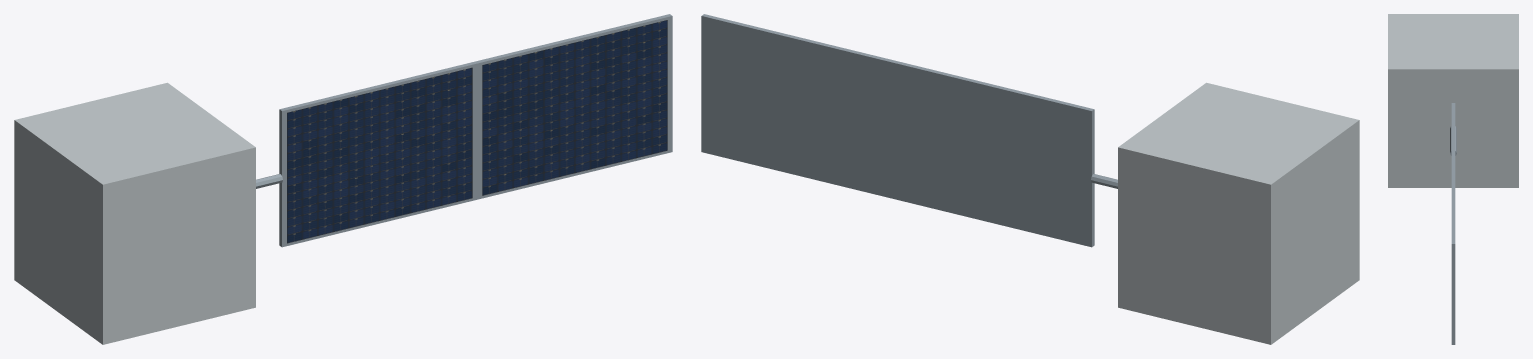
Rendered from ref-sast-1000-54640.glb.
3 views of the same model, side by side, from view 1: azimuth 30°, elevation 25°; view 2: azimuth 150°, elevation 25°; view 3: azimuth 270°, elevation 25° (orthographic). The views are drawn at different scales.
Parts seen in each view (by area): view 1: Spacecraft body, Photovoltaic laminates (×2), Array frame (×2); view 2: Array frame (×2), Spacecraft body; view 3: Spacecraft body, Array frame (×2), Solar array drive.
Part boxes in pixels (x1=…): Spacecraft body: x1=14, y1=82, x2=255, y2=344; Photovoltaic laminates (×2): x1=287, y1=20, x2=667, y2=243; Array frame (×2): x1=279, y1=14, x2=672, y2=247; Array frame (×2): x1=701, y1=14, x2=1094, y2=247; Spacecraft body: x1=1118, y1=82, x2=1359, y2=344; Spacecraft body: x1=1388, y1=14, x2=1518, y2=187; Array frame (×2): x1=1451, y1=103, x2=1455, y2=344; Solar array drive: x1=1450, y1=126, x2=1456, y2=155.
Size of the model in its own units: 8 by 2 by 2.
3 materials, 1 textured.
